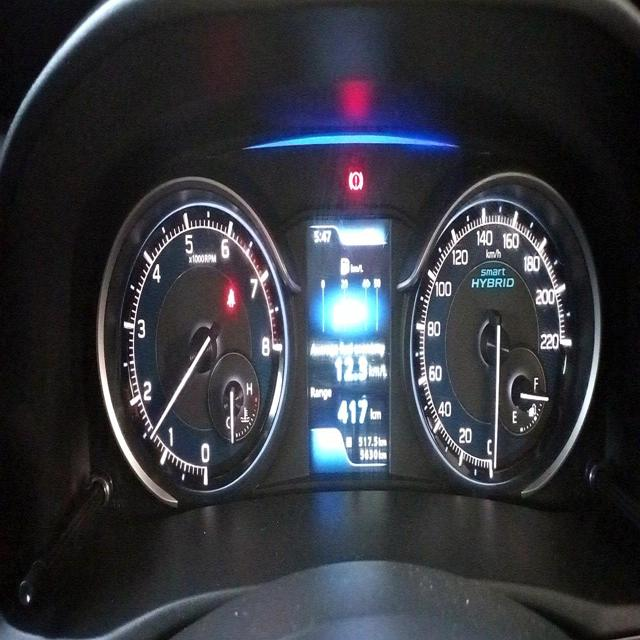odometer: (358, 445, 382, 464)
